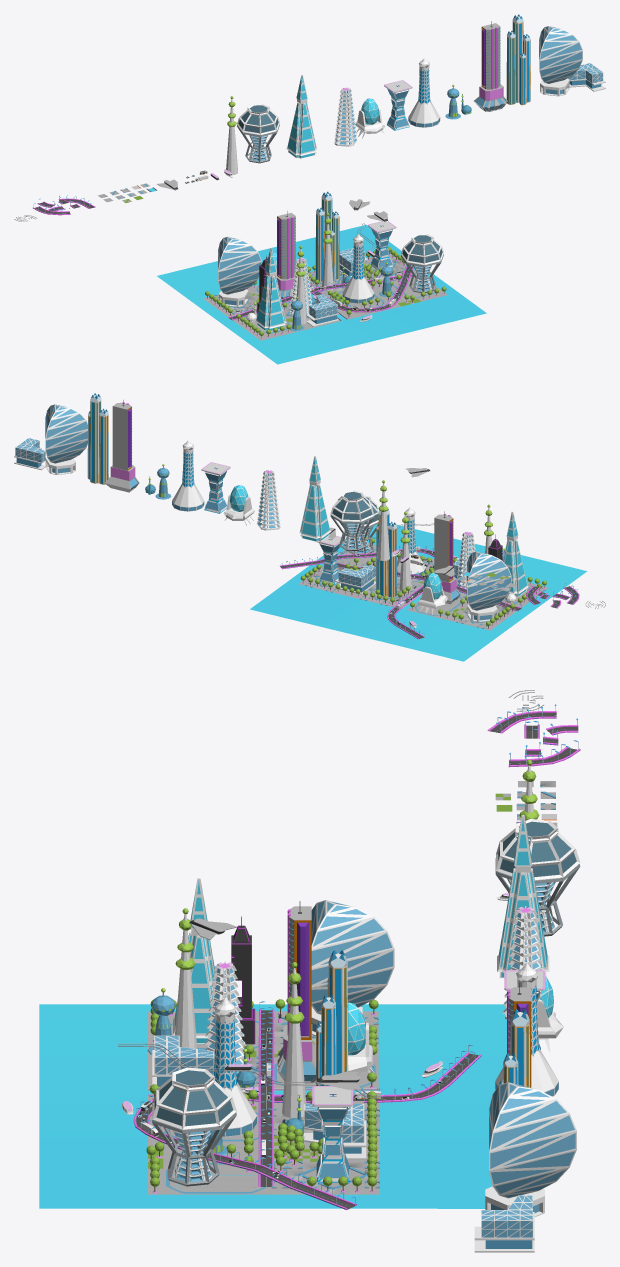
The model's file is Low_Poly_City_Future.glb.
3 views of the same model, one above another, from view 1: azimuth 30°, elevation 25°; view 2: azimuth 150°, elevation 25°; view 3: azimuth 270°, elevation 25° (orthographic). The views are drawn at different scales.
Parts seen in each view (by area): view 1: sea_Future Texture City_0, Building_Future Texture City_0, Building.023_Future Texture City_0, Cube.002_Future Texture City_0, Building.008_Future Texture City_0, Building.009_Future Texture City_0, Building.001_Future Texture City_0, Building.014_Future Texture City_0, Building.017_Future Texture City_0, Building.013_Future Texture City_0, Building.005_Future Texture City_0, Building.010_Future Texture City_0 (+11 smaller); view 2: sea_Future Texture City_0, Building_Future Texture City_0, Building.023_Future Texture City_0, Building.008_Future Texture City_0, Building.009_Future Texture City_0, Cube.002_Future Texture City_0, Building.017_Future Texture City_0, Building.013_Future Texture City_0, Building.014_Future Texture City_0, Building.010_Future Texture City_0, Building.005_Future Texture City_0, Building.011_Future Texture City_0 (+11 smaller); view 3: sea_Future Texture City_0, Building_Future Texture City_0, Building.001_Future Texture City_0, Building.023_Future Texture City_0, Building.009_Future Texture City_0, Building.017_Future Texture City_0, Building.014_Future Texture City_0, Building.013_Future Texture City_0, Building.028_Future Texture City_0, Building.026_Future Texture City_0, Building.003_Future Texture City_0, Building.005_Future Texture City_0 (+13 smaller).
Boxes of the visible parts, box(x1,y1,x2,y2) form: sea_Future Texture City_0: box(157, 225, 486, 364); Building_Future Texture City_0: box(539, 26, 582, 96); Building.023_Future Texture City_0: box(218, 236, 261, 306); Cube.002_Future Texture City_0: box(506, 14, 530, 105); Building.008_Future Texture City_0: box(474, 21, 507, 111); Building.009_Future Texture City_0: box(237, 104, 279, 163); Building.001_Future Texture City_0: box(401, 234, 443, 292); Building.014_Future Texture City_0: box(315, 191, 339, 282); Building.017_Future Texture City_0: box(276, 211, 295, 298); Building.013_Future Texture City_0: box(286, 75, 317, 158); Building.005_Future Texture City_0: box(255, 247, 286, 331); Building.010_Future Texture City_0: box(408, 58, 440, 127); sea_Future Texture City_0: box(250, 523, 587, 661); Building_Future Texture City_0: box(45, 404, 87, 474); Building.023_Future Texture City_0: box(467, 551, 511, 622); Building.008_Future Texture City_0: box(105, 400, 139, 492); Building.009_Future Texture City_0: box(330, 490, 374, 550); Cube.002_Future Texture City_0: box(87, 393, 108, 484); Building.017_Future Texture City_0: box(434, 511, 460, 604); Building.013_Future Texture City_0: box(299, 456, 330, 541); Building.014_Future Texture City_0: box(376, 509, 396, 597); Building.010_Future Texture City_0: box(172, 440, 204, 511); Building.005_Future Texture City_0: box(502, 511, 528, 596); Building.011_Future Texture City_0: box(257, 470, 280, 530); sea_Future Texture City_0: box(39, 1004, 506, 1208); Building_Future Texture City_0: box(485, 1082, 576, 1216); Building.001_Future Texture City_0: box(152, 1067, 236, 1186); Building.023_Future Texture City_0: box(311, 900, 394, 1036); Building.009_Future Texture City_0: box(495, 819, 580, 936); Building.017_Future Texture City_0: box(277, 901, 315, 1083); Building.014_Future Texture City_0: box(316, 950, 347, 1085); Building.013_Future Texture City_0: box(497, 815, 549, 978); Building.028_Future Texture City_0: box(474, 1195, 534, 1252); Building.026_Future Texture City_0: box(312, 1086, 353, 1182); Building.003_Future Texture City_0: box(213, 998, 256, 1137); Building.005_Future Texture City_0: box(173, 878, 215, 1043).
Size of the model in its own units: 689 by 199 by 280.
1 material, 1 textured.
